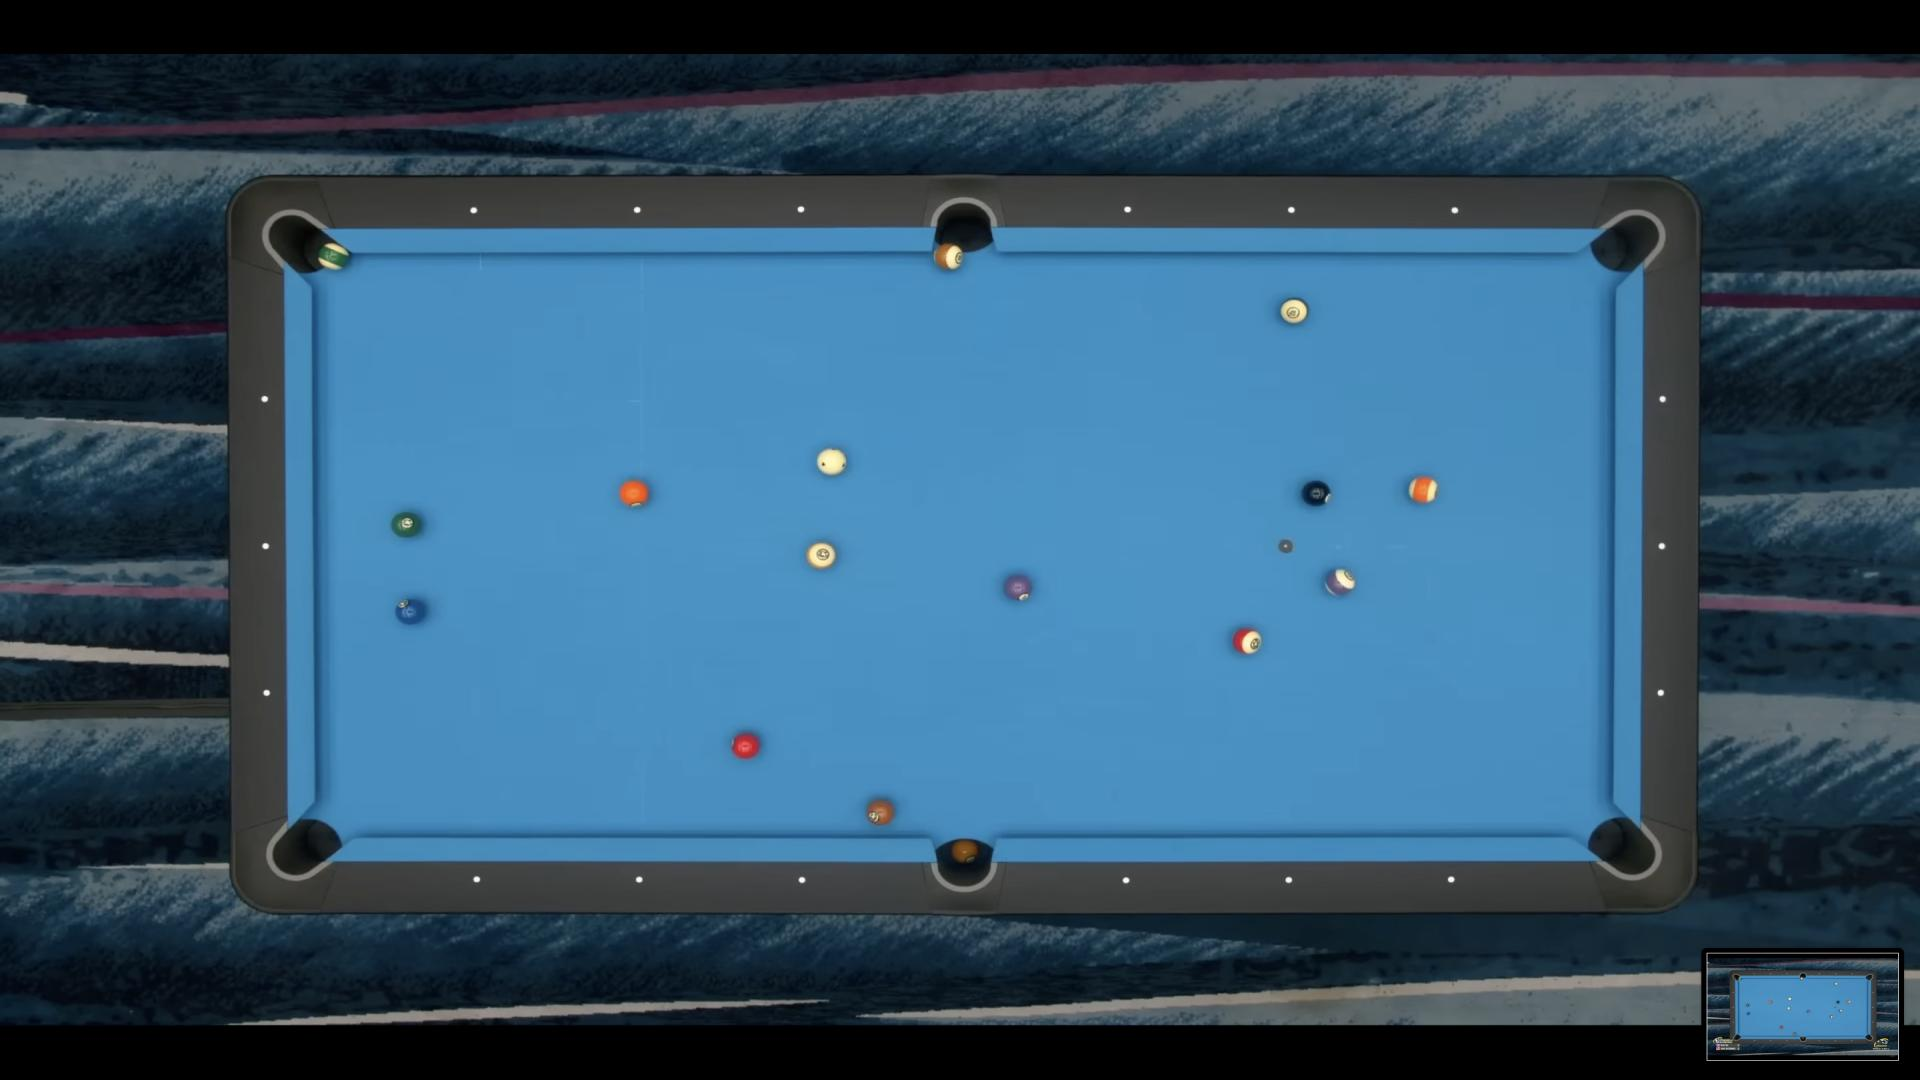Black: (1302, 480, 1332, 506)
Cue: (816, 448, 847, 476)
Dot: (257, 684, 273, 699), (257, 392, 273, 406), (257, 539, 273, 553), (1655, 541, 1669, 554), (1655, 393, 1669, 406), (467, 204, 480, 218), (1654, 687, 1668, 699), (629, 204, 644, 216), (794, 204, 808, 216), (471, 874, 483, 885), (634, 874, 646, 885), (795, 876, 807, 886), (1283, 876, 1294, 885), (1445, 876, 1456, 885), (1286, 206, 1296, 215), (1451, 206, 1461, 215), (1124, 204, 1134, 214), (1121, 876, 1131, 884)
Solid: (396, 599, 427, 625), (732, 732, 761, 760), (866, 799, 894, 825), (620, 481, 649, 506), (392, 512, 421, 537), (1005, 575, 1033, 600)
Striped: (1324, 568, 1356, 596), (318, 243, 349, 270), (1408, 476, 1437, 504), (806, 542, 836, 568), (934, 243, 963, 269), (1233, 629, 1262, 654), (1280, 298, 1308, 323)
